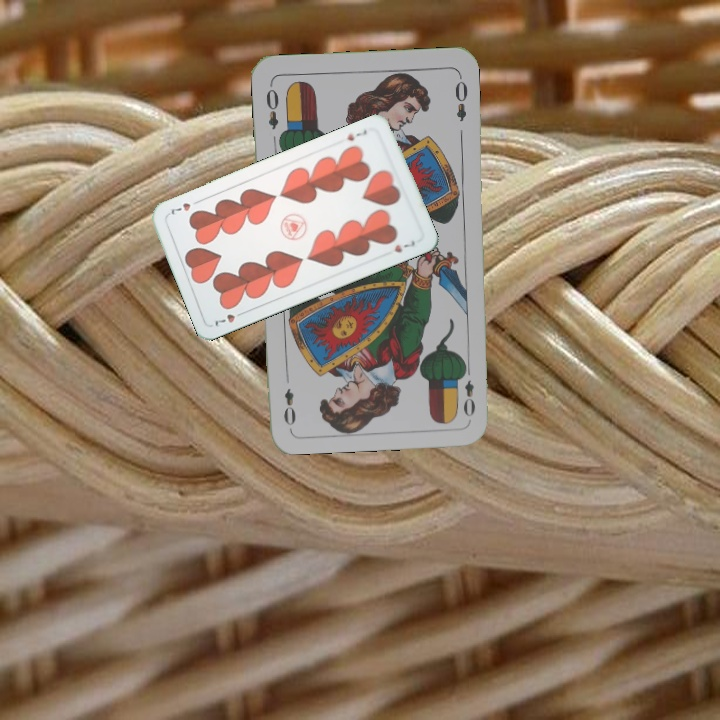EO: (457, 361, 478, 419), (262, 80, 282, 132)
H7: (211, 307, 248, 329), (343, 125, 369, 143)
